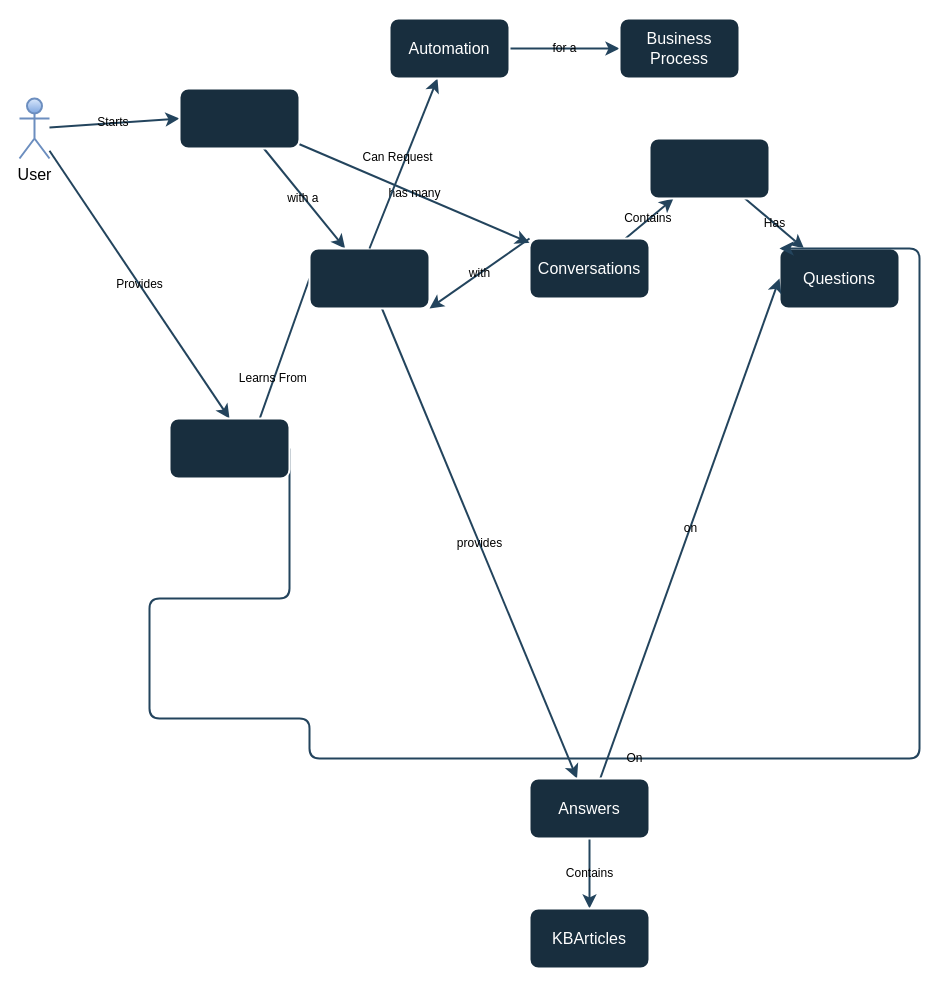
The diagram is 947 pixels wide and 986 high, and some of its shapes have lost their labels. Here are the shapes that lost their labels. From the top down, the box of each, then its label:
(178, 87, 300, 149): Chat Session
(648, 137, 770, 199): Interactions
(308, 247, 430, 309): Virtual Agent
(168, 417, 290, 479): Feedback
